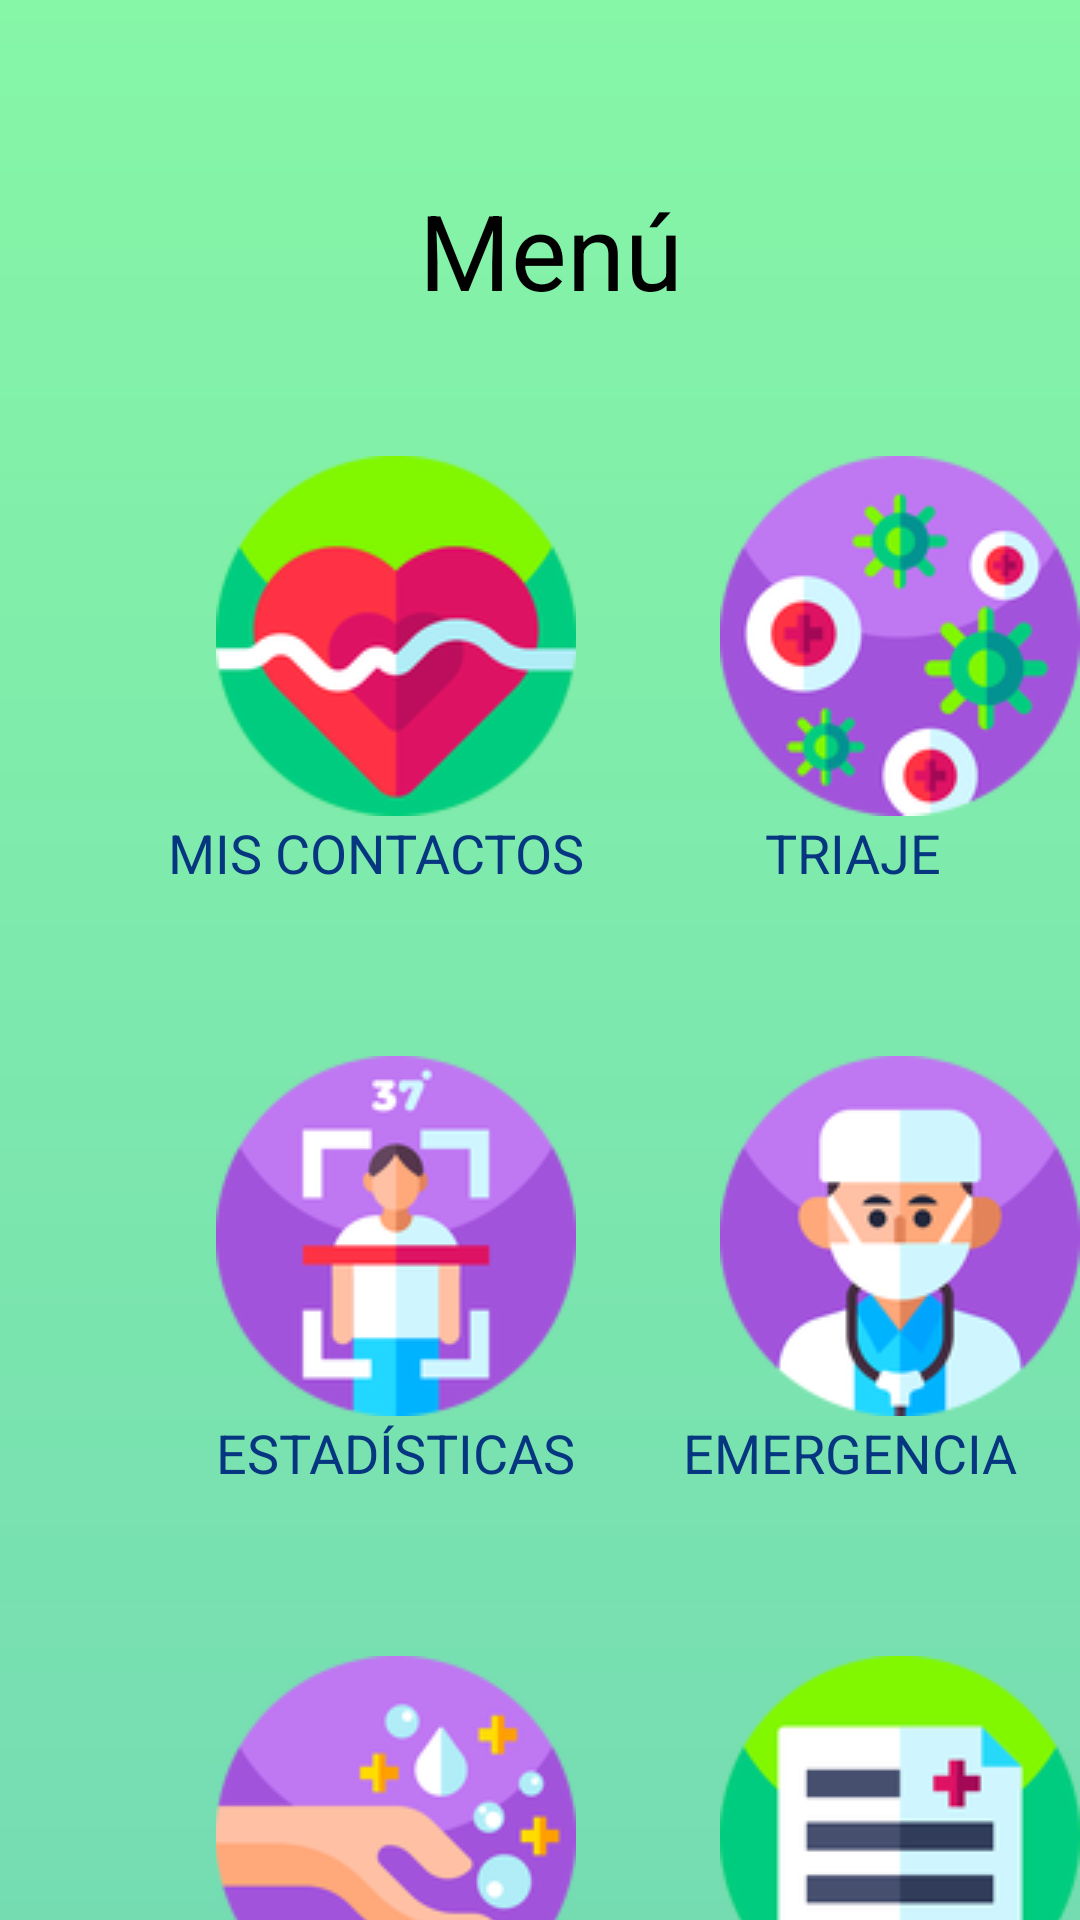

Icons on this 1080 x 1920 Android screen, each with the point to tap as [x,y]:
miestado: [396,636]
missintomas: [900,636]
